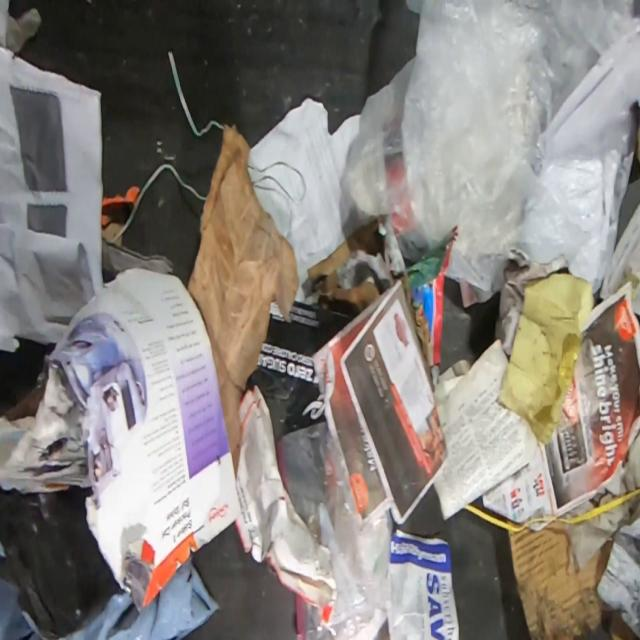cardboard: (186, 121, 302, 483), (507, 516, 614, 639)
soft_plastic: (346, 0, 640, 295), (0, 490, 221, 640), (278, 420, 393, 639)
